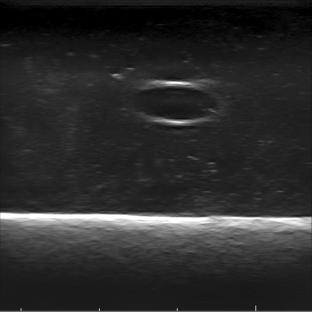vessel: (131, 81, 220, 126)
